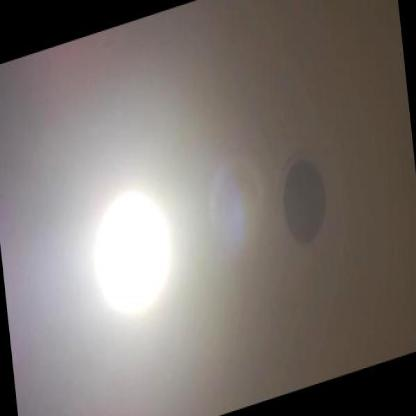light_off: (263, 116, 342, 277)
